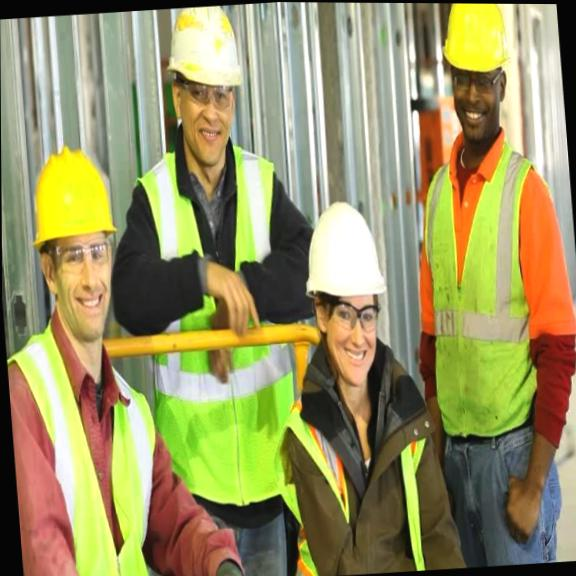safety_vest: (132, 142, 299, 519), (418, 133, 548, 441)
